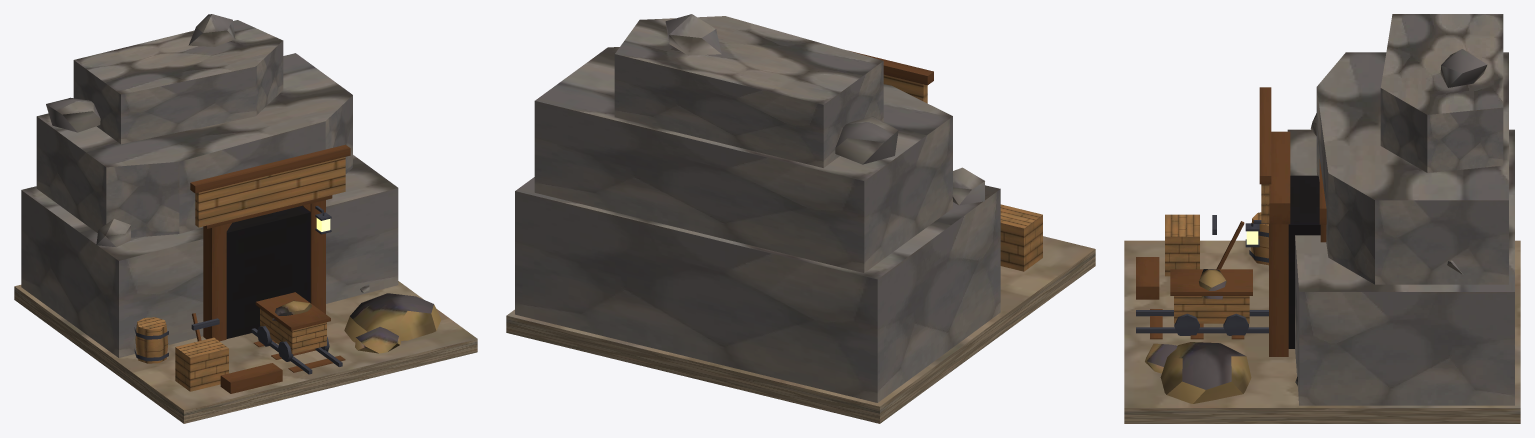
Rendered from mine.glb.
The picture shows the model from 3 angles, left to right: view 1: azimuth 30°, elevation 25°; view 2: azimuth 150°, elevation 25°; view 3: azimuth 270°, elevation 25°; orthographic projection. The views are drawn at different scales.
Visible parts, largest first — view 1: mine; view 2: mine; view 3: mine.
Boxes of the visible parts, box(x1,y1,x2,y2) form: mine: box(14, 14, 477, 423); mine: box(506, 14, 1095, 423); mine: box(1124, 14, 1520, 423).
Size of the model in its own units: 6.81 by 5.8 by 6.8.
Materials: 4 (4 with a texture image).
